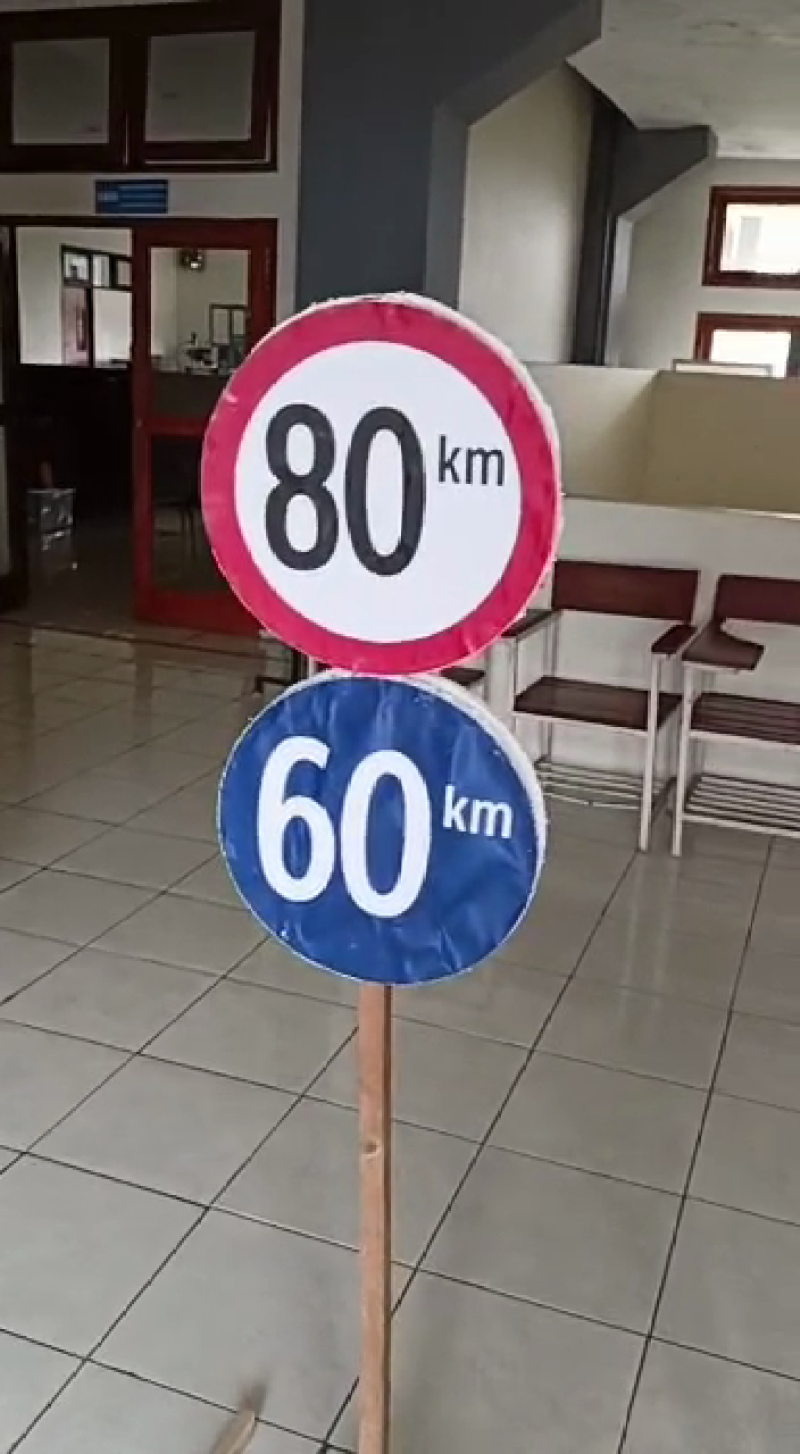batas maksimal 80kmperjam minimal 60kmperjam: (169, 269, 579, 1002)
